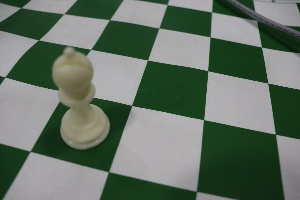white_bishop: (39, 33, 111, 156)
